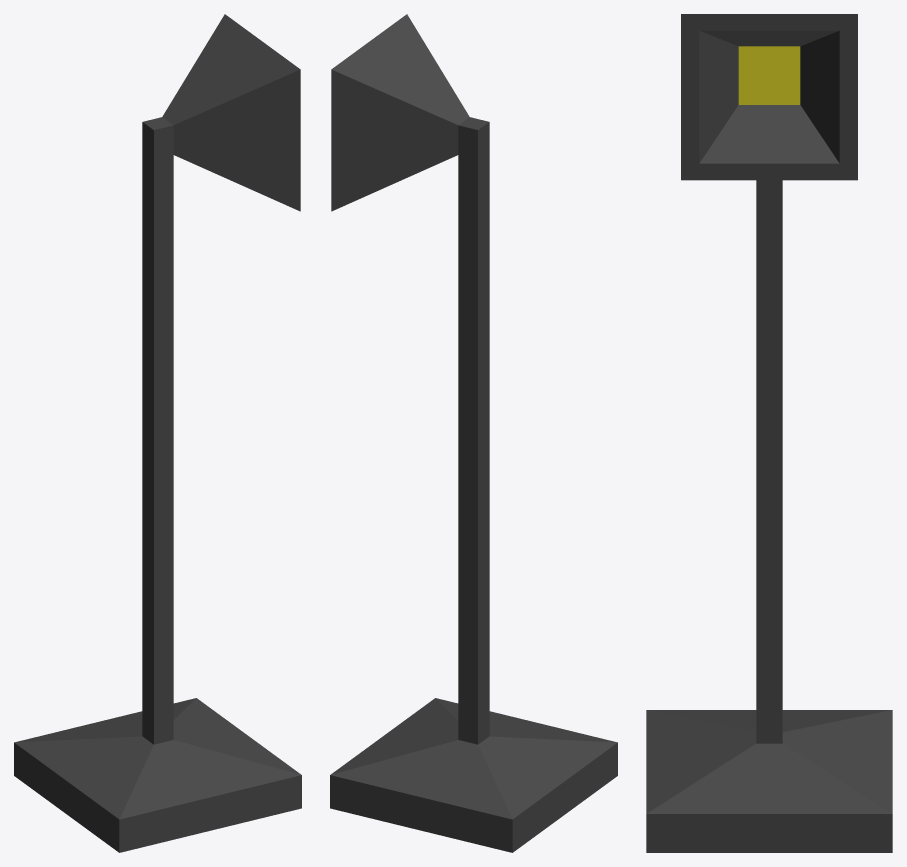
Rendered from light.fbx.
3 renders of one model, left to right at view 1: azimuth 30°, elevation 25°; view 2: azimuth 150°, elevation 25°; view 3: azimuth 270°, elevation 25°, orthographic. The views are drawn at different scales.
Parts seen in each view (by area): view 1: Light; view 2: Light; view 3: Light.
Boxes of the visible parts, x1=… form: Light: x1=14, y1=14, x2=301, y2=852; Light: x1=330, y1=14, x2=617, y2=852; Light: x1=646, y1=14, x2=892, y2=852.
Size of the model in its own units: 65.01 by 230 by 60.53.
